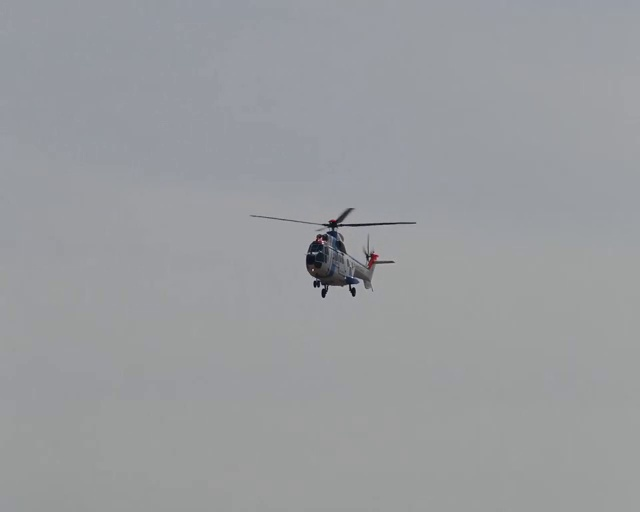HELICOPTER: (249, 206, 418, 298)
